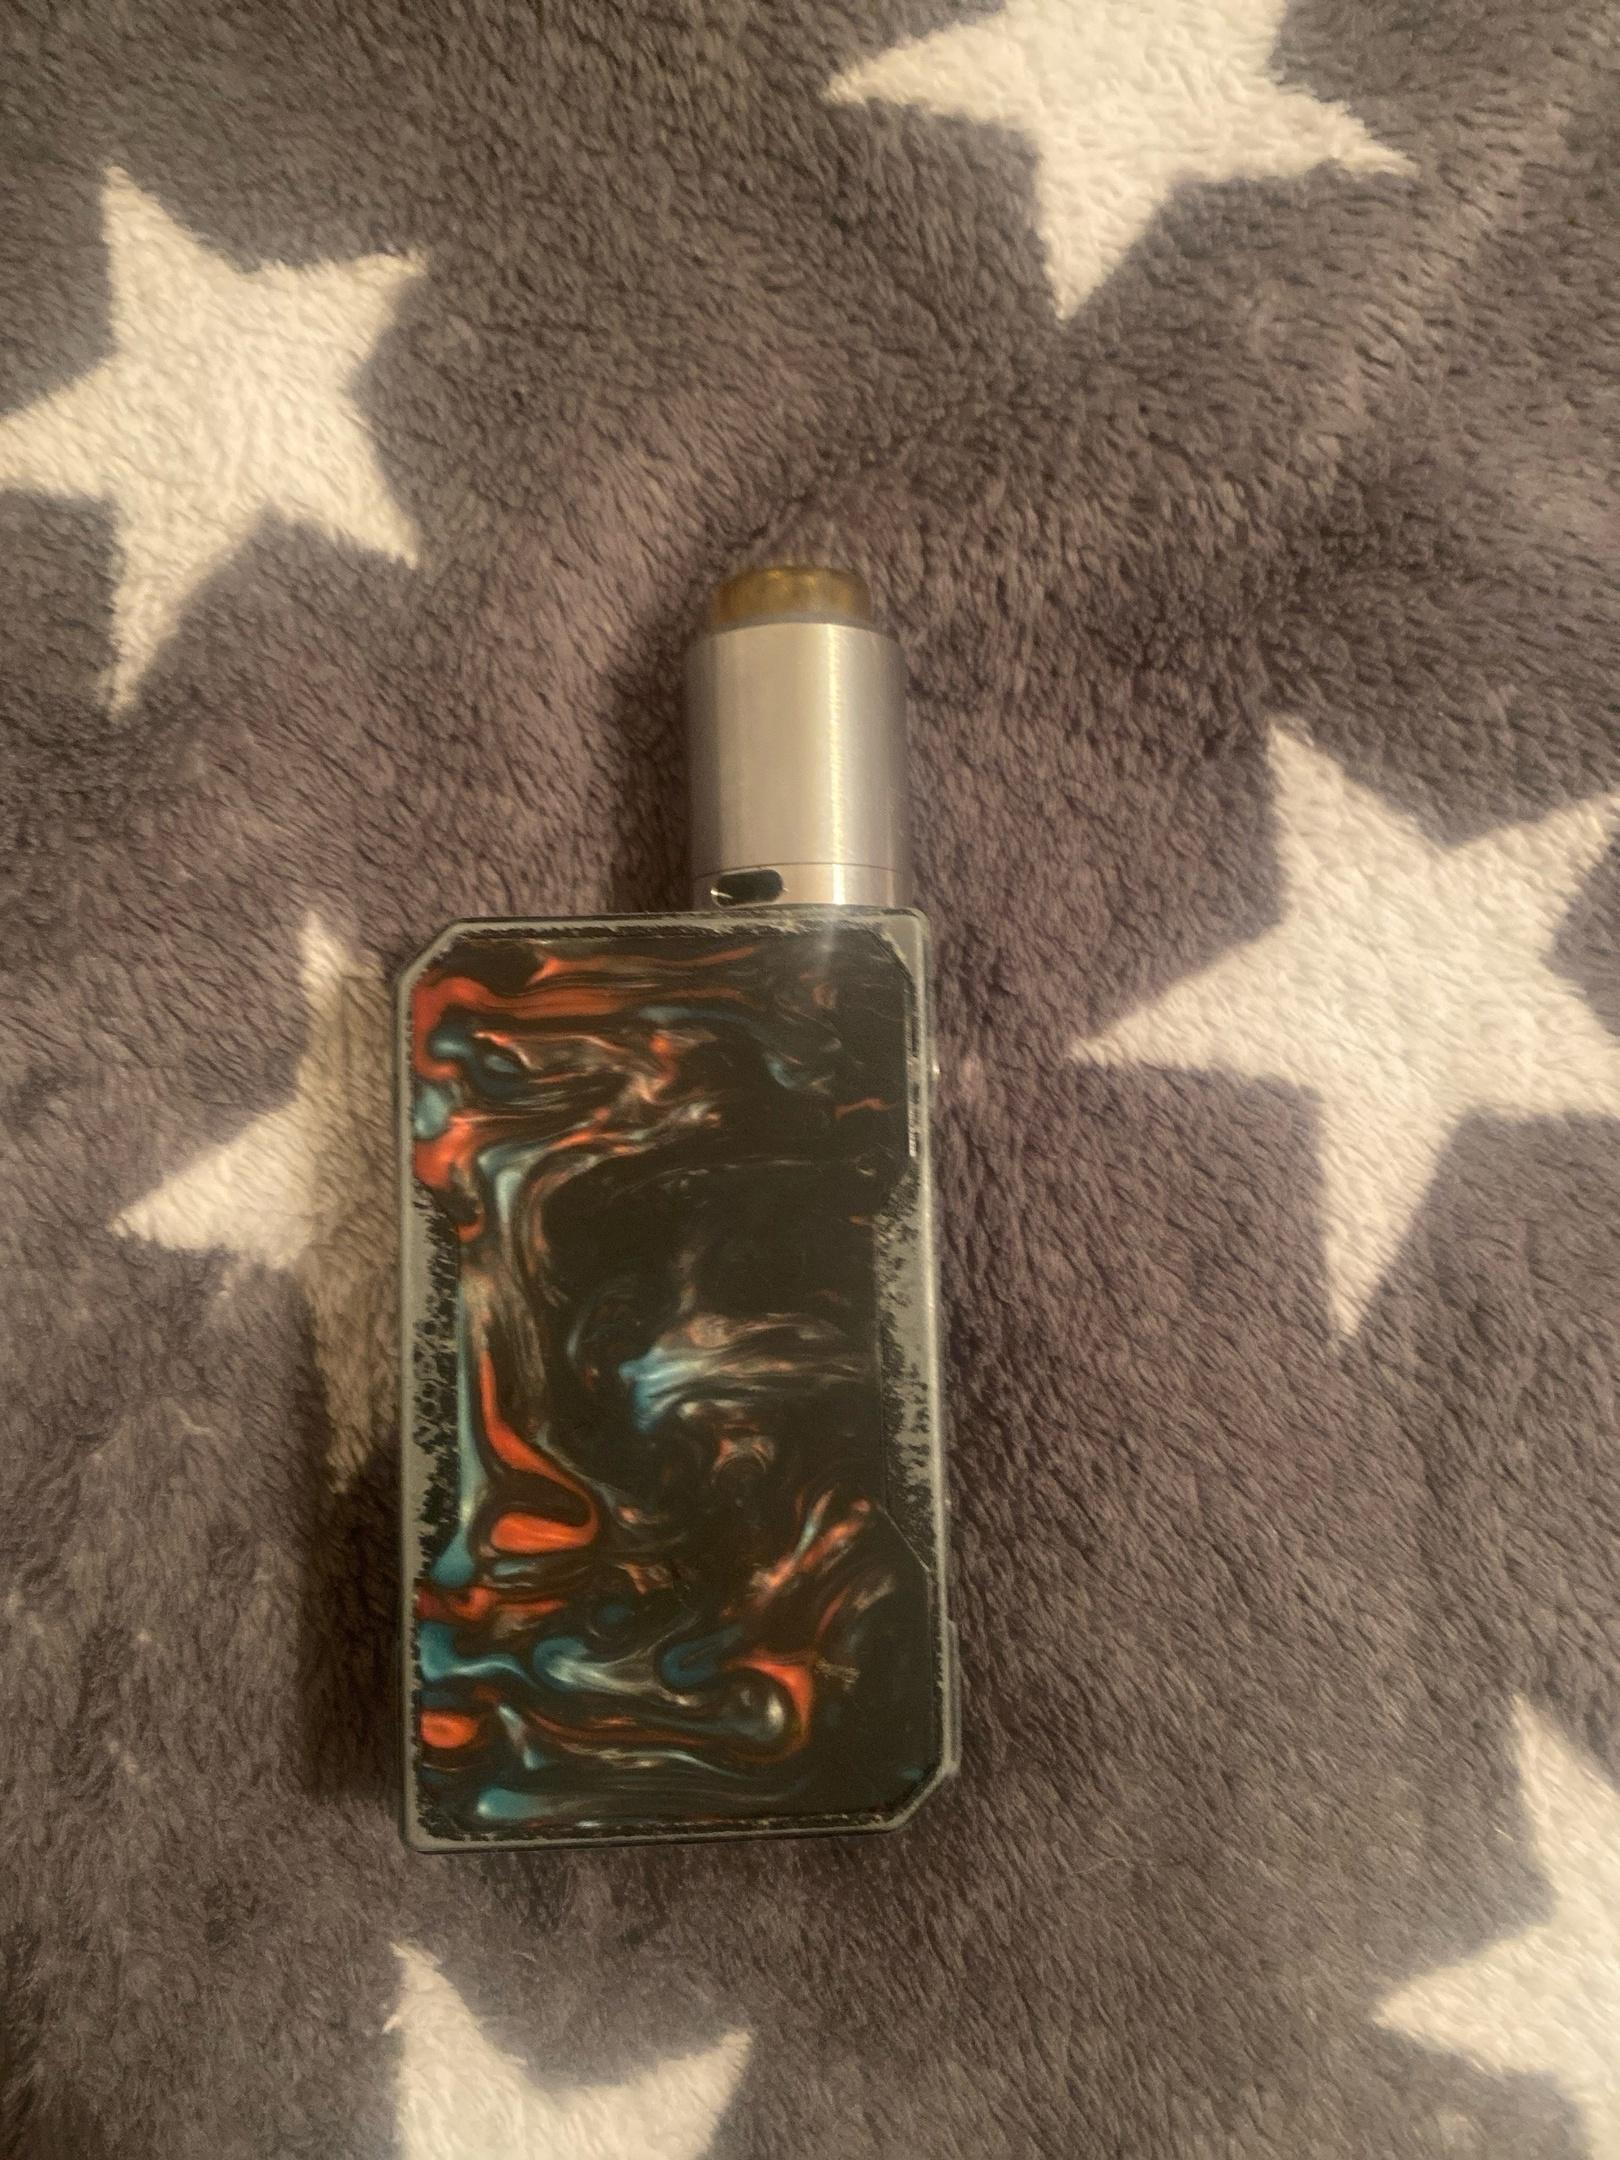Vape: (396, 568, 958, 1852)
